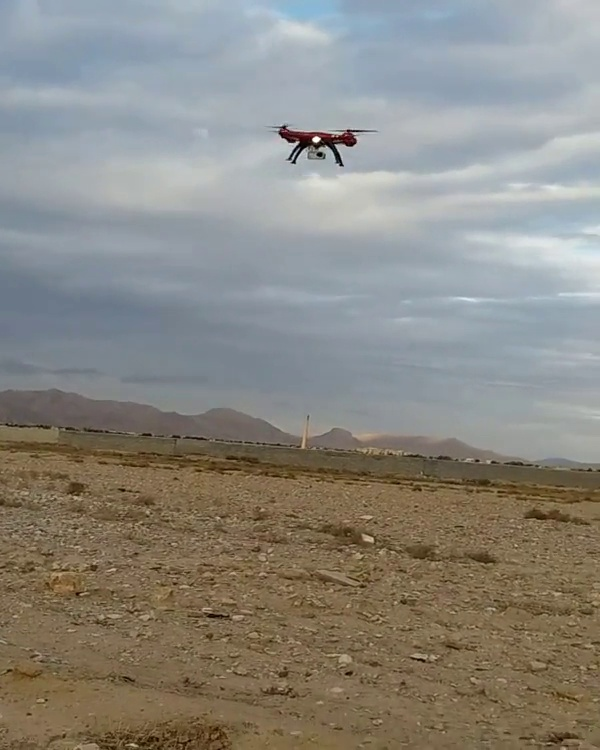drone_other: (266, 122, 375, 168)
